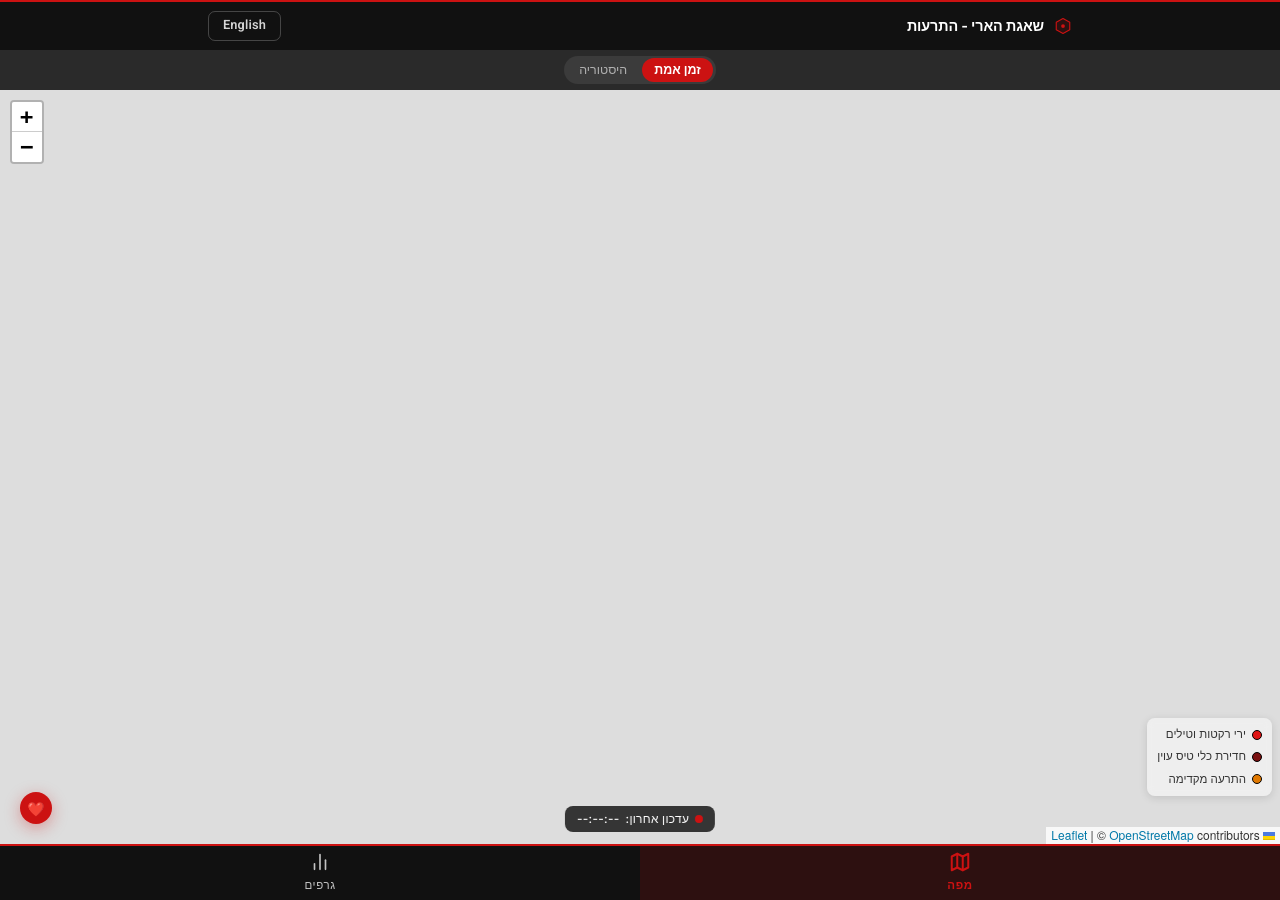
Page user-flow tests › shows loading spinner when alertsLoading is true
Click the button "גרפים".
click(320, 873)  # box [0,846,640,899]
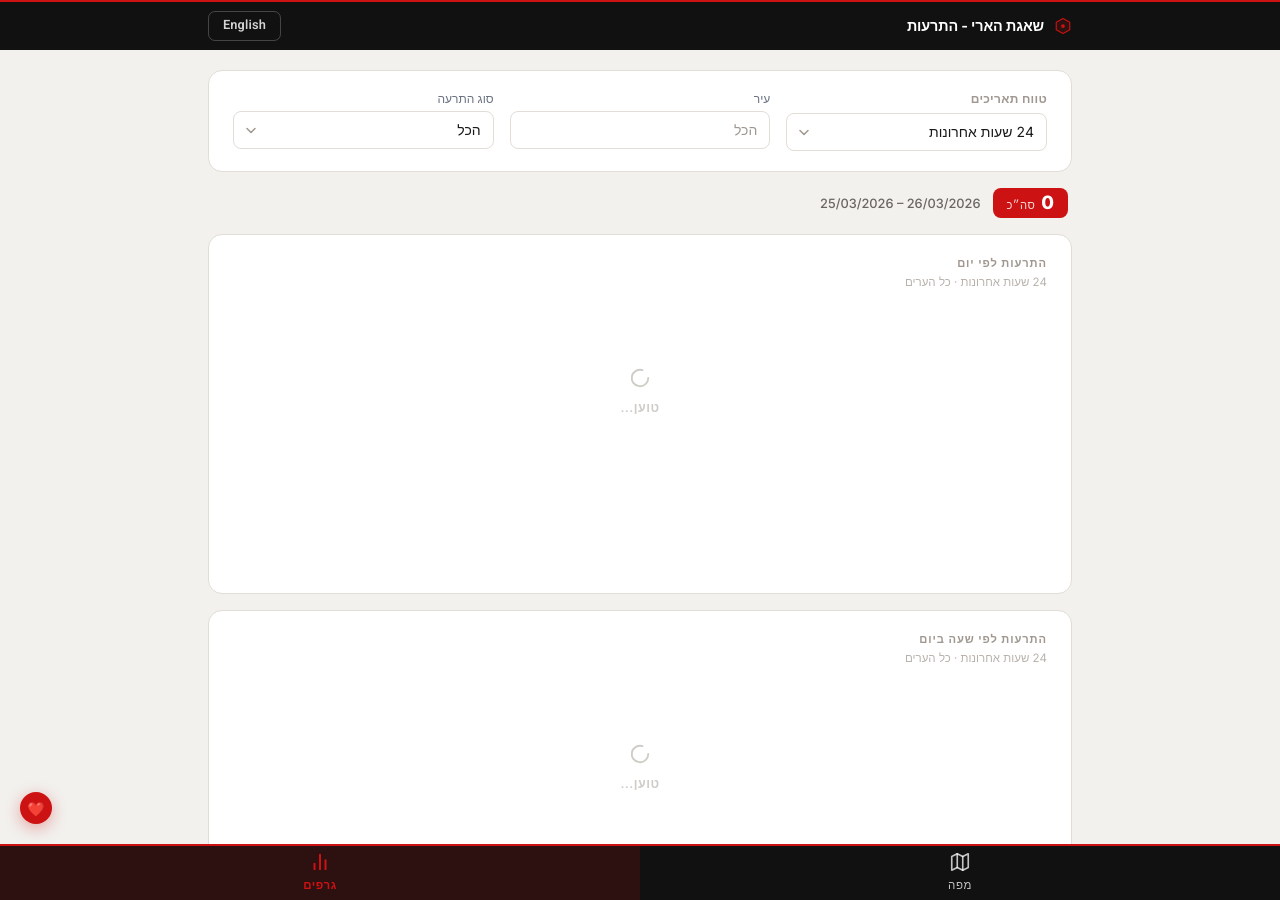
Now the 1st text "טוען..." is shown, box [620,399,660,417]
